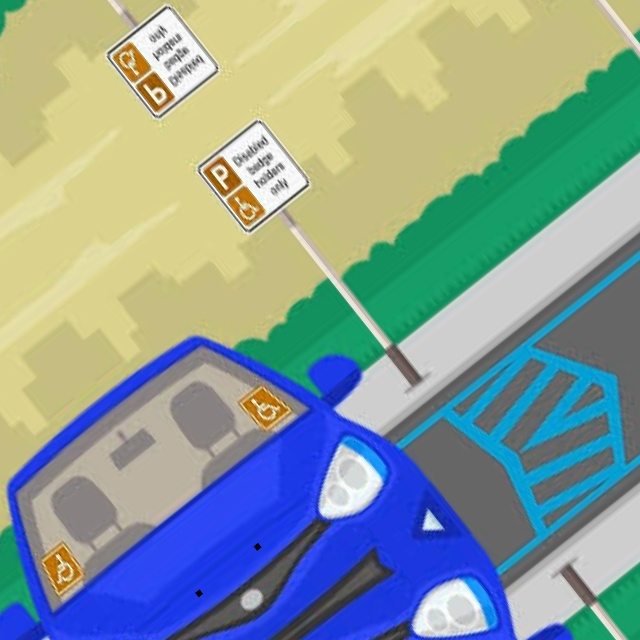ISA: (241, 383, 290, 433), (37, 545, 85, 595), (111, 41, 151, 83), (226, 185, 265, 226)
